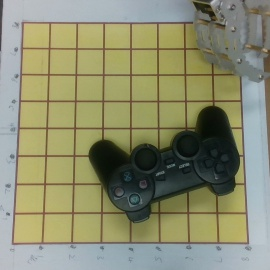remote: (87, 104, 241, 223)
